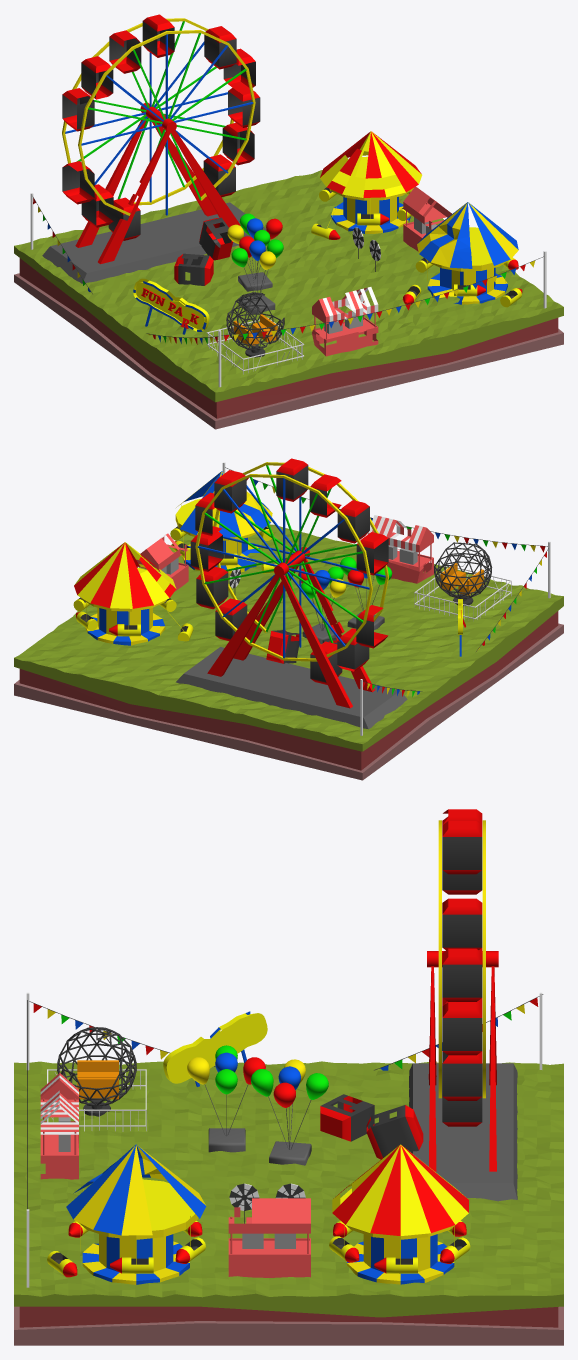
File: 01 Zombie_9.FBX
3 renders of one model, top to bottom at view 1: azimuth 30°, elevation 25°; view 2: azimuth 150°, elevation 25°; view 3: azimuth 270°, elevation 25°, orthographic. The views are drawn at different scales.
Parts seen in each view (by area): view 1: Base, Sparkle, Carousel_2, Carousel_1, Popcorn_Cart, Festoon_flags, Carousel_3, Park_Signboard, Balloons_1, Food_Cart, Balloons_2, Fence; view 2: Base, Sparkle, Carousel_1, Carousel_2, Popcorn_Cart, Carousel_3, Festoon_flags, Food_Cart, Balloons_2, Fence, Balloons_1; view 3: Base, Sparkle, Carousel_2, Carousel_1, Food_Cart, Carousel_3, Popcorn_Cart, Balloons_2, Park_Signboard, Balloons_1, Festoon_flags, Fence.
Boxes of the visible parts, bbox=[...] form: Base: bbox=[14, 170, 563, 429]; Sparkle: bbox=[42, 14, 266, 285]; Carousel_2: bbox=[402, 202, 522, 307]; Carousel_1: bbox=[311, 131, 422, 239]; Popcorn_Cart: bbox=[312, 287, 378, 356]; Festoon_flags: bbox=[30, 193, 546, 387]; Carousel_3: bbox=[226, 292, 284, 357]; Park_Signboard: bbox=[133, 278, 209, 334]; Balloons_1: bbox=[231, 236, 283, 313]; Food_Cart: bbox=[403, 186, 451, 251]; Balloons_2: bbox=[227, 213, 282, 291]; Fence: bbox=[206, 317, 304, 374]; Base: bbox=[14, 524, 563, 780]; Sparkle: bbox=[176, 458, 407, 729]; Carousel_1: bbox=[73, 542, 193, 645]; Carousel_2: bbox=[170, 471, 278, 573]; Popcorn_Cart: bbox=[367, 515, 433, 583]; Carousel_3: bbox=[434, 541, 492, 606]; Festoon_flags: bbox=[222, 462, 550, 735]; Food_Cart: bbox=[136, 533, 188, 591]; Balloons_2: bbox=[298, 566, 346, 643]; Fence: bbox=[414, 566, 511, 621]; Balloons_1: bbox=[340, 557, 392, 629]; Base: bbox=[14, 1061, 563, 1345]; Sparkle: bbox=[320, 809, 517, 1201]; Carousel_2: bbox=[47, 1144, 206, 1284]; Carousel_1: bbox=[329, 1144, 470, 1284]; Food_Cart: bbox=[228, 1198, 310, 1277]; Carousel_3: bbox=[57, 1027, 136, 1116]; Popcorn_Cart: bbox=[40, 1073, 78, 1179]; Balloons_2: bbox=[251, 1059, 328, 1165]; Park_Signboard: bbox=[163, 1011, 267, 1086]; Balloons_1: bbox=[187, 1045, 265, 1152]; Festoon_flags: bbox=[26, 992, 543, 1287]; Fence: bbox=[47, 1068, 146, 1131].
Bounding box in the file's own units: 10001 × 7219 × 10001.
